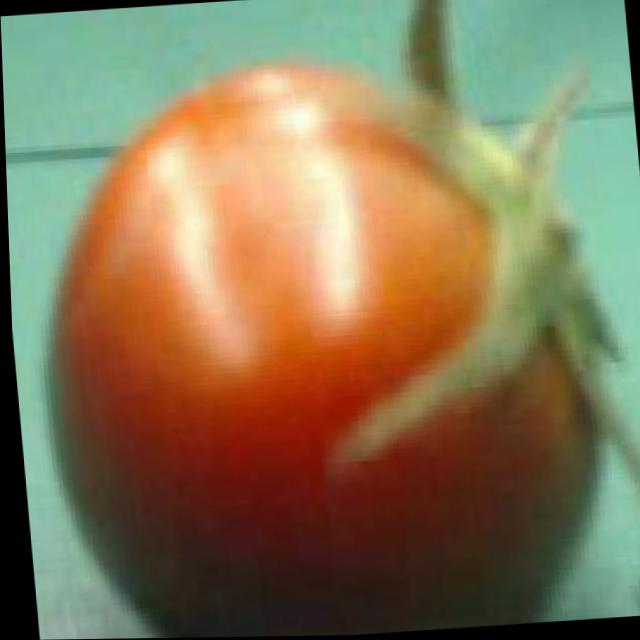tomato: (14, 39, 622, 640)
